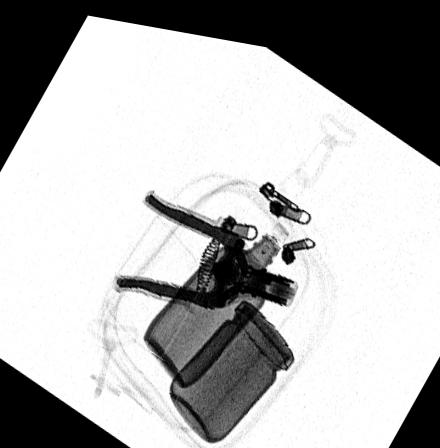Pliers: (111, 184, 297, 304)
